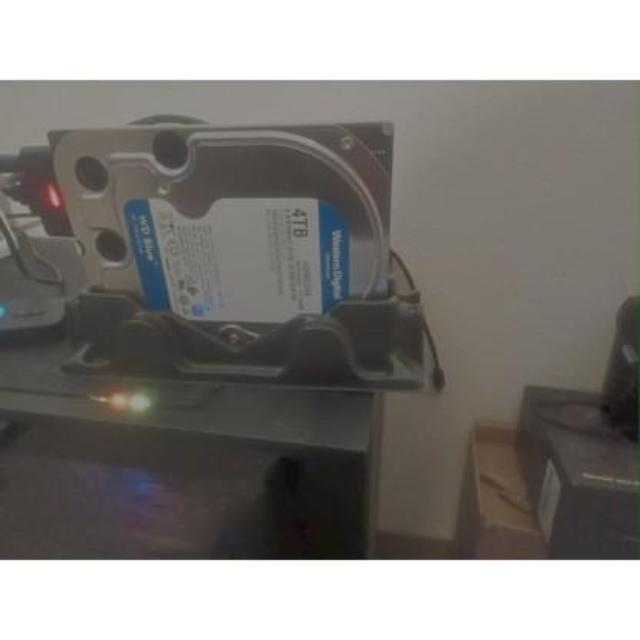DISK: (40, 121, 392, 310)
